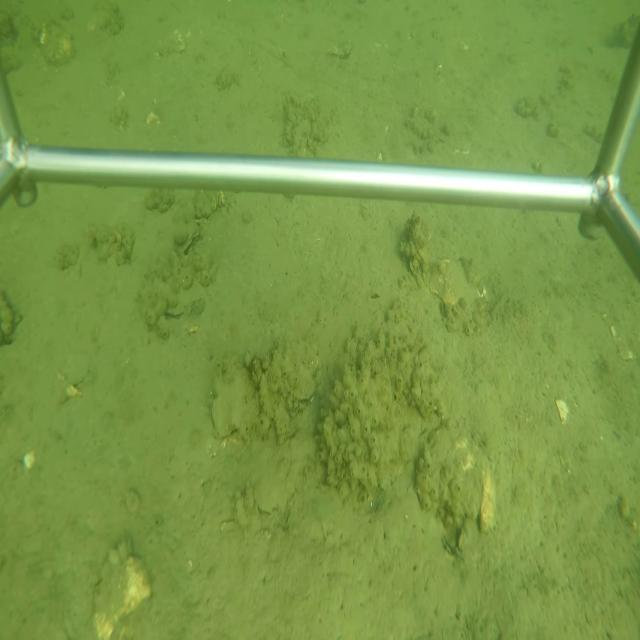Oyster-Indeterminate: (180, 236, 193, 254)
